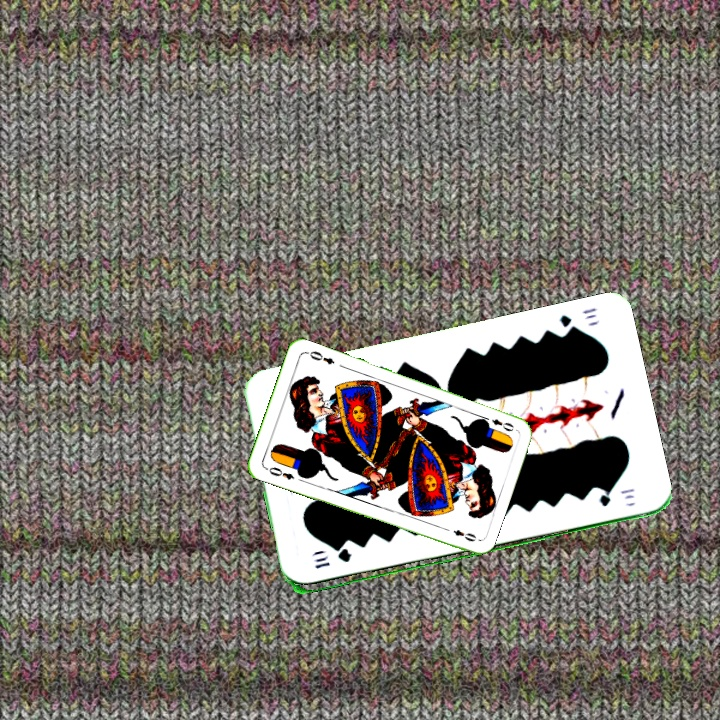EO: (479, 412, 517, 434), (265, 463, 297, 482)
G10: (556, 303, 600, 336), (311, 548, 354, 571)
